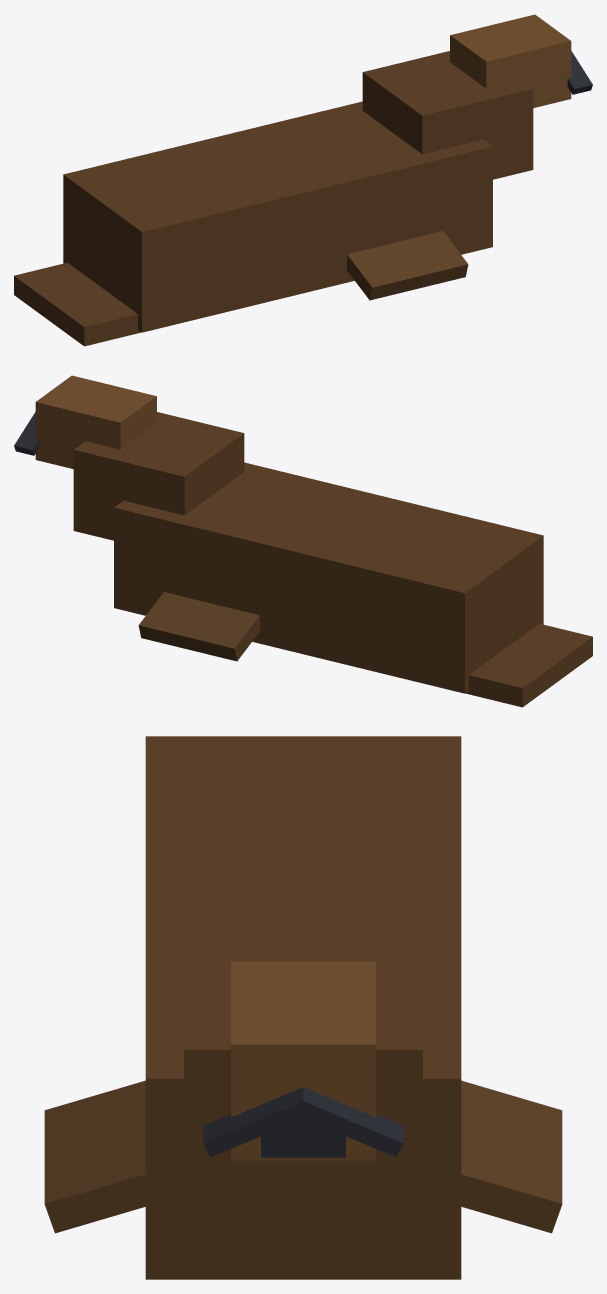
Rendered from lobo_marino.obj.
3 views of the same model, one above another, from view 1: azimuth 30°, elevation 25°; view 2: azimuth 150°, elevation 25°; view 3: azimuth 270°, elevation 25° (orthographic). The views are drawn at different scales.
Parts seen in each view (by area): view 1: lobo_marino; view 2: lobo_marino; view 3: lobo_marino.
Part boxes in pixels (left/top/right/bottom): lobo_marino: left=14, top=14, right=592, bottom=346; lobo_marino: left=14, top=375, right=592, bottom=707; lobo_marino: left=44, top=736, right=562, bottom=1279.
Bounding box in the file's own units: 2.81 × 0.88 × 1.21.
